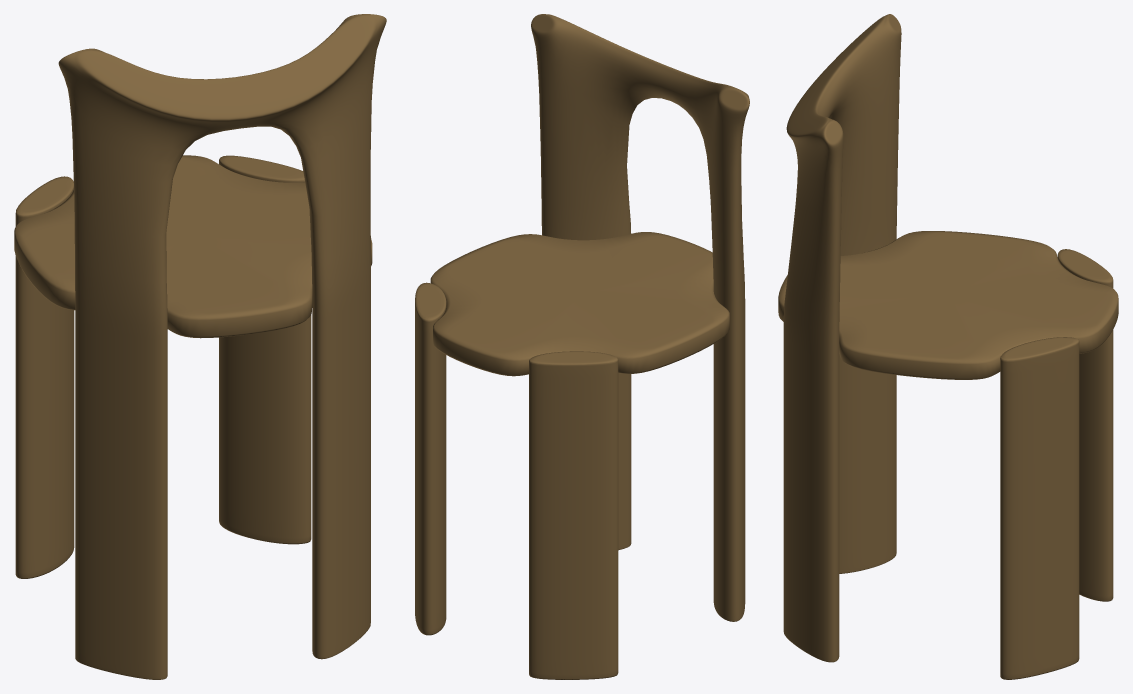
Rendered from StoolWhole.fbx.
3 views of the same model, side by side, from view 1: azimuth 30°, elevation 25°; view 2: azimuth 150°, elevation 25°; view 3: azimuth 270°, elevation 25° (orthographic). The views are drawn at different scales.
Visible parts, largest first — view 1: Stool_01; view 2: Stool_01; view 3: Stool_01.
Boxes of the visible parts, x1=… form: Stool_01: x1=14, y1=14, x2=386, y2=679; Stool_01: x1=415, y1=14, x2=749, y2=679; Stool_01: x1=778, y1=14, x2=1118, y2=679.
Size of the model in its own units: 47.64 by 82.97 by 45.26.
